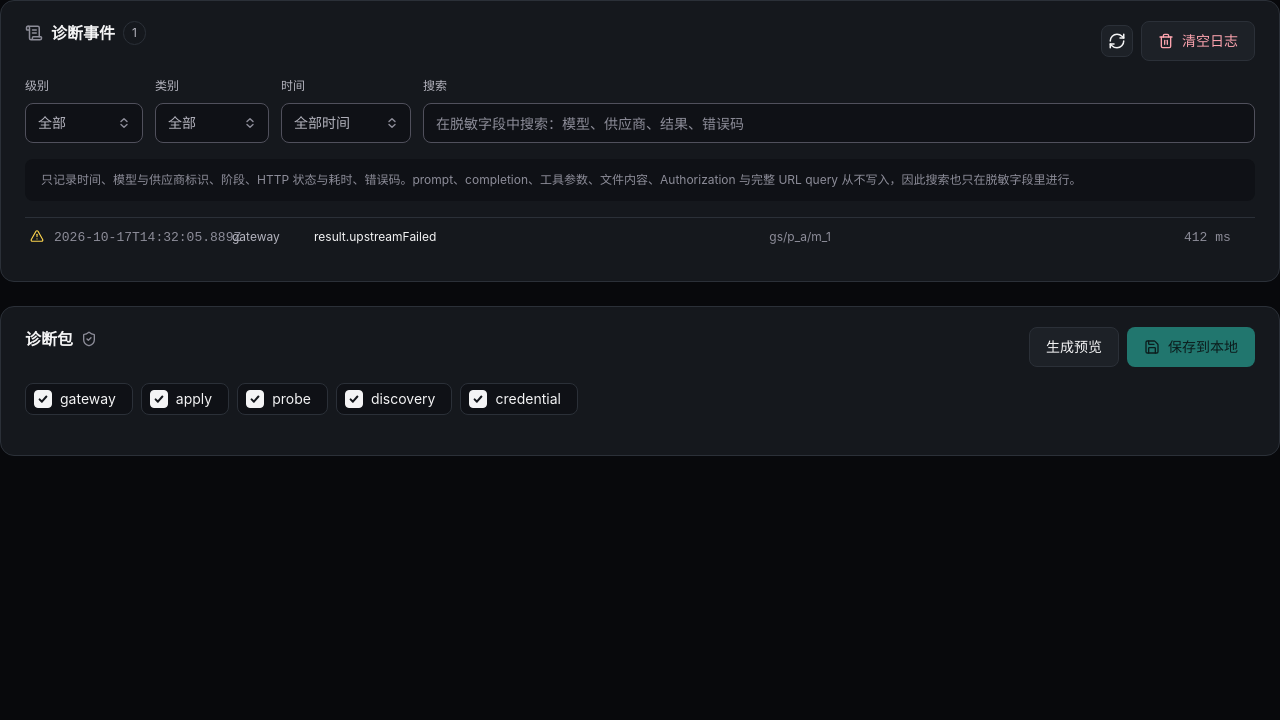
Test case: 改动导出范围后预览作废，避免导出与预览过的清单不一致
expect the text "result.upstreamFailed" is shown: met, box [314,229,436,244]
Click the button "生成预览" at (1074, 347), box [1029,327,1119,367]
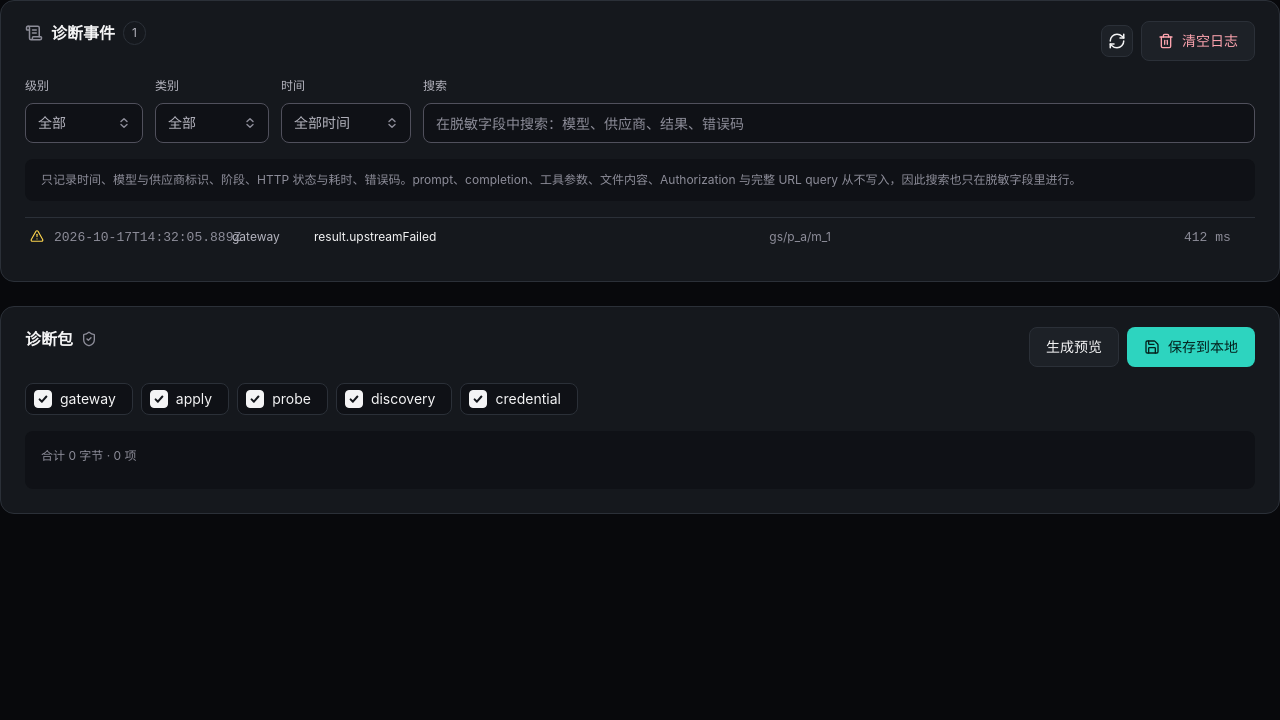
expect the button "保存到本地" is enabled: met, box [1127,327,1255,367]
Note: 预览之后取消勾选一类：清单已经不代表将要导出的内容，必须先重新预览。
Click the checkbox labelled "gateway" at (43, 399), box [34,390,52,408]
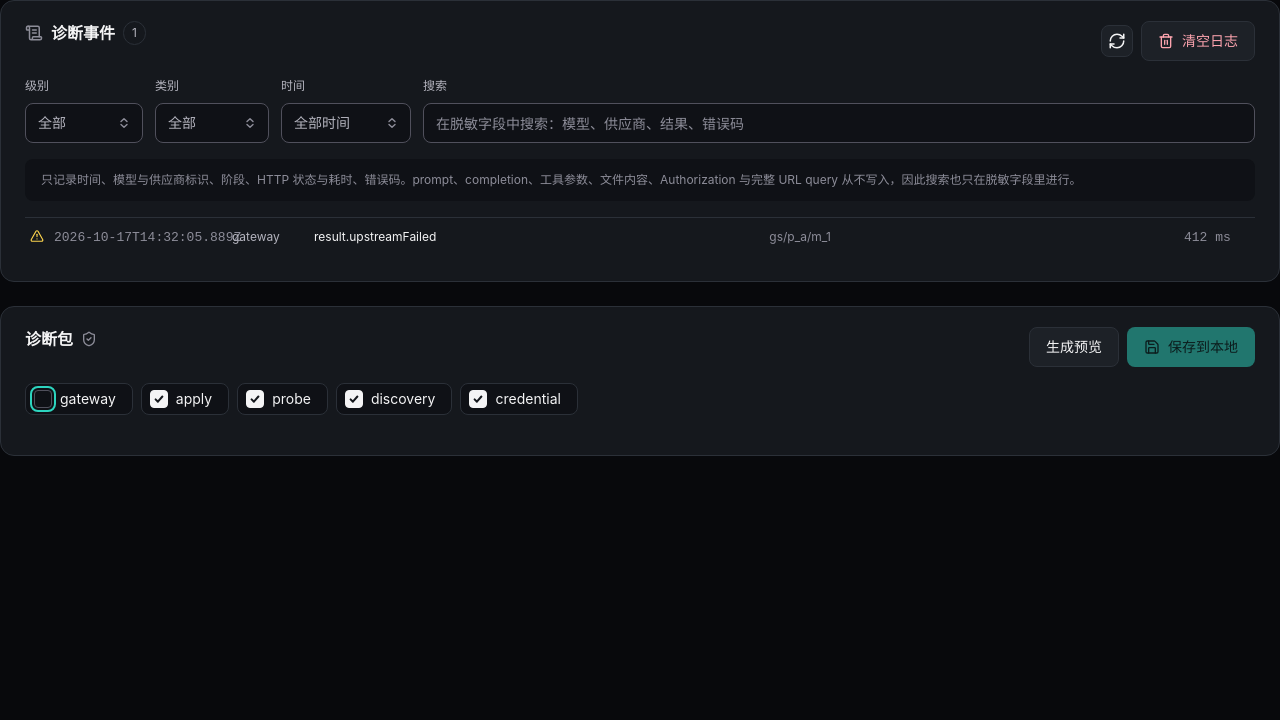
expect the button "保存到本地" is disabled: met, box [1127,327,1255,367]
